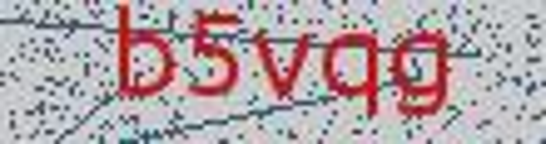5: (184, 8, 245, 110)
b: (102, 1, 173, 109)
g: (390, 27, 456, 130)
q: (320, 30, 385, 133)
v: (252, 24, 313, 106)
